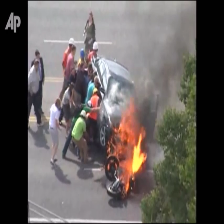fire_h: (105, 96, 147, 194)
fire_l: (107, 159, 117, 170)
